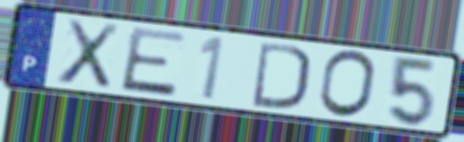1: (197, 36, 227, 104)
5: (384, 55, 437, 129)
D: (250, 39, 312, 112)
E: (117, 25, 190, 99)
O: (316, 48, 379, 121)
X: (54, 17, 123, 92)
